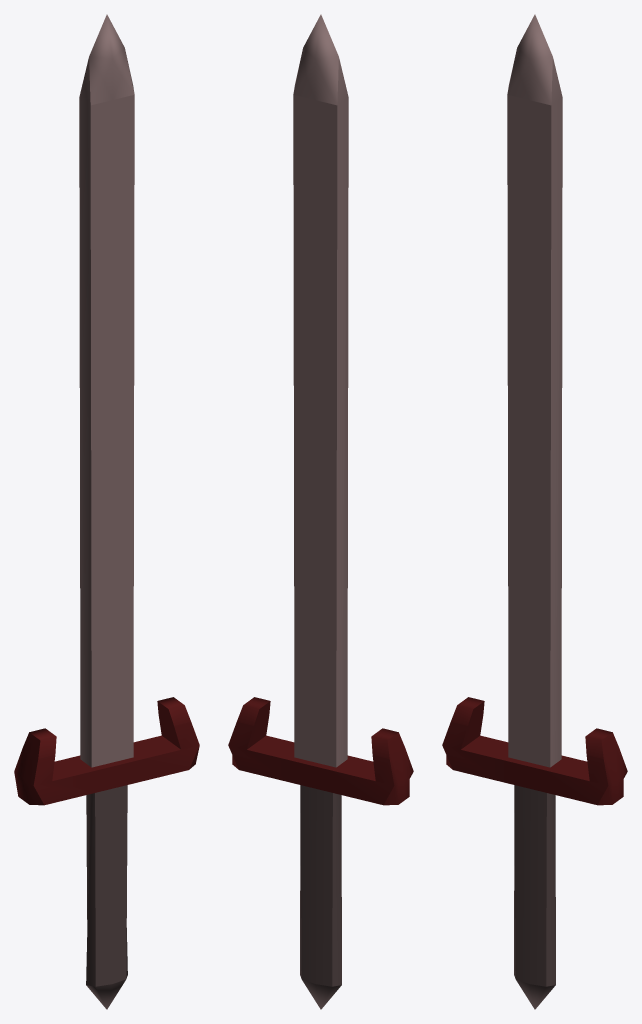
The model's file is Greatsword.fbx.
3 views of the same model, side by side, from view 1: azimuth 30°, elevation 25°; view 2: azimuth 150°, elevation 25°; view 3: azimuth 330°, elevation 25° (orthographic).
Parts seen in each view (by area): view 1: pCube1; view 2: pCube1; view 3: pCube1.
Part boxes in pixels (<box>): pCube1: <box>14,14,199,1009</box>; pCube1: <box>228,14,413,1009</box>; pCube1: <box>442,14,627,1009</box>.
Size of the model in its own units: 2.31 by 13.24 by 0.469.
